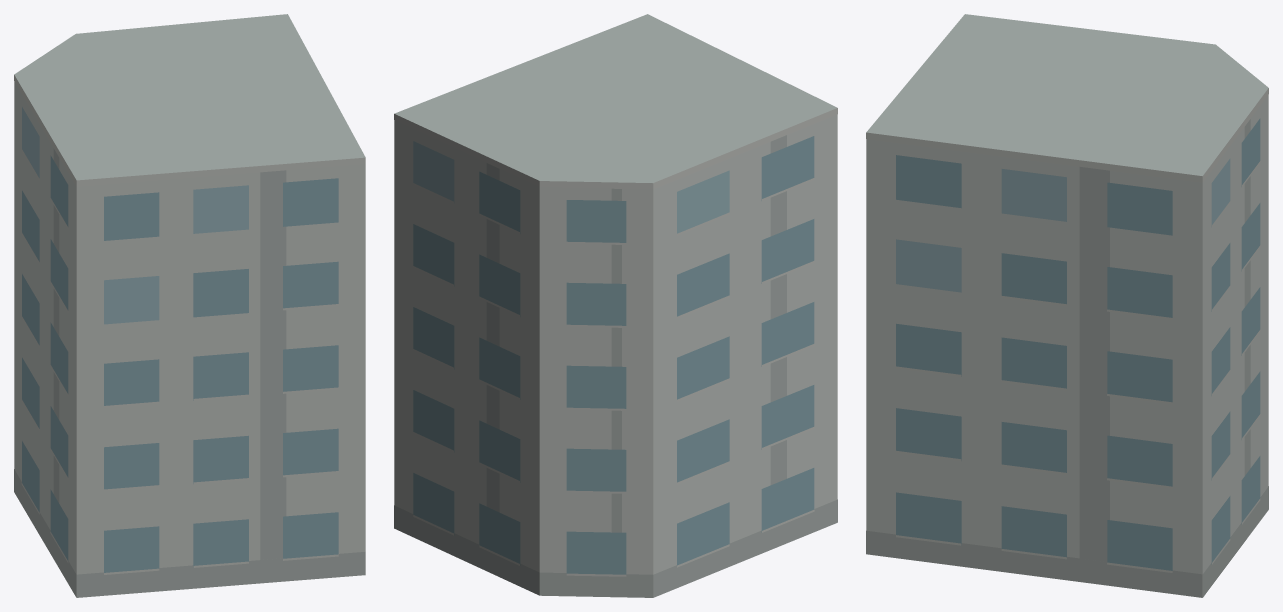
Rendered from survey-upis-33039692.glb.
3 renders of one model, left to right at view 1: azimuth 30°, elevation 25°; view 2: azimuth 150°, elevation 25°; view 3: azimuth 270°, elevation 25°, orthographic.
Parts seen in each view (by area): view 1: survey-upis-33039692.tmp; view 2: survey-upis-33039692.tmp; view 3: survey-upis-33039692.tmp.
Part boxes in pixels (x1=…): survey-upis-33039692.tmp: x1=14, y1=14, x2=365, y2=597; survey-upis-33039692.tmp: x1=394, y1=14, x2=837, y2=597; survey-upis-33039692.tmp: x1=866, y1=14, x2=1268, y2=597.
Bounding box in the file's own units: 12.96 × 15.7 × 13.6.
